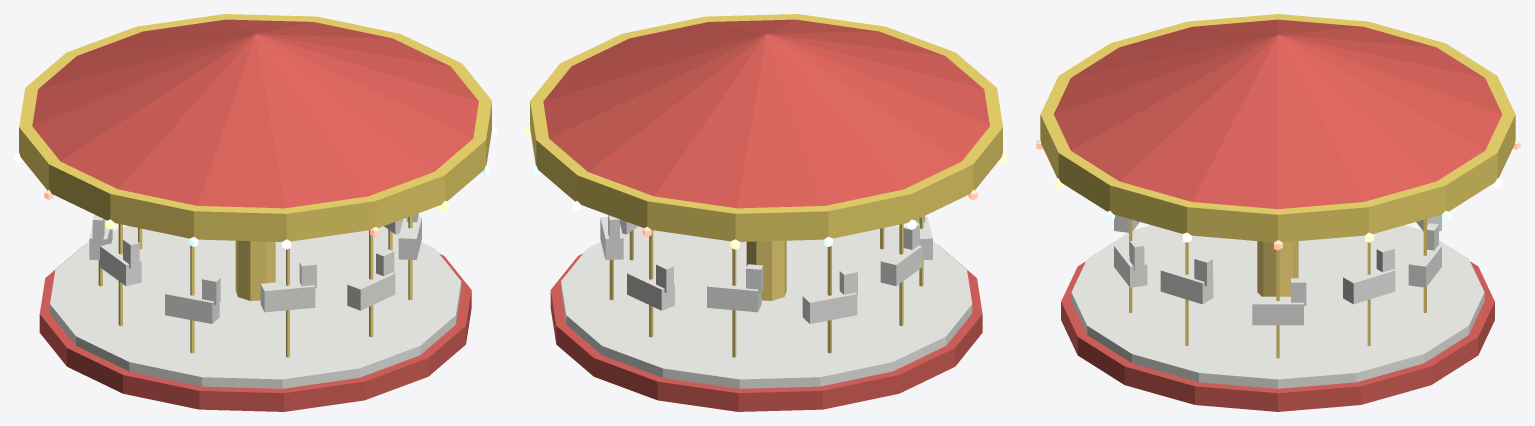
File: carousel.glb
3 views of the same model, side by side, from view 1: azimuth 30°, elevation 25°; view 2: azimuth 150°, elevation 25°; view 3: azimuth 270°, elevation 25° (orthographic).
Visible parts, largest first — view 1: spin, carousel; view 2: spin, carousel; view 3: spin, carousel.
Part boxes in pixels (<box>): spin: <box>14,14,496,388</box>; carousel: <box>39,240,471,411</box>; spin: <box>525,14,1007,388</box>; carousel: <box>550,240,982,411</box>; spin: <box>1036,14,1520,388</box>; carousel: <box>1061,241,1494,411</box>.
Size of the model in its own units: 9.38 by 6.1 by 9.37.
